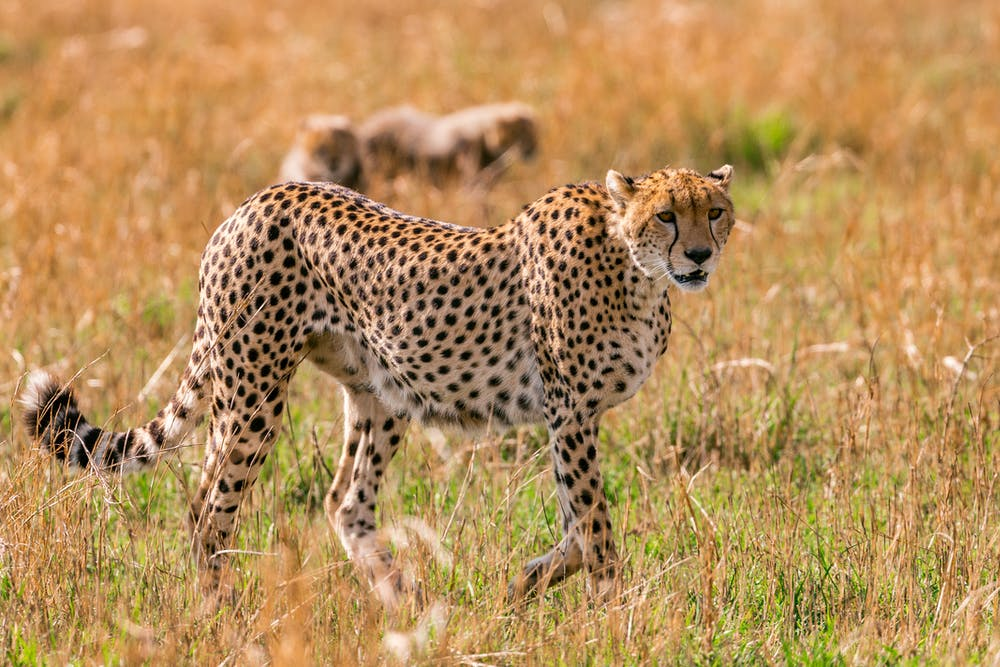cheetah: (580, 152, 744, 298)
